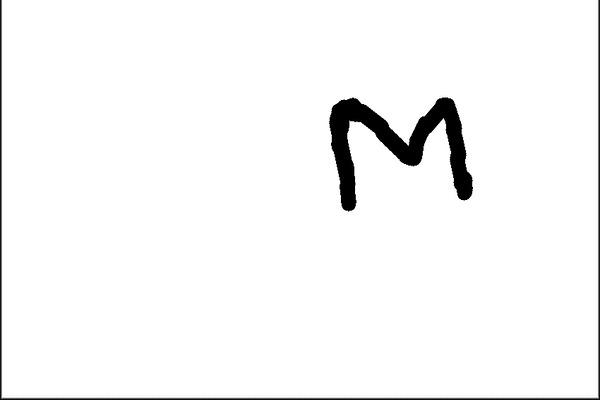M: (328, 92, 477, 211)
